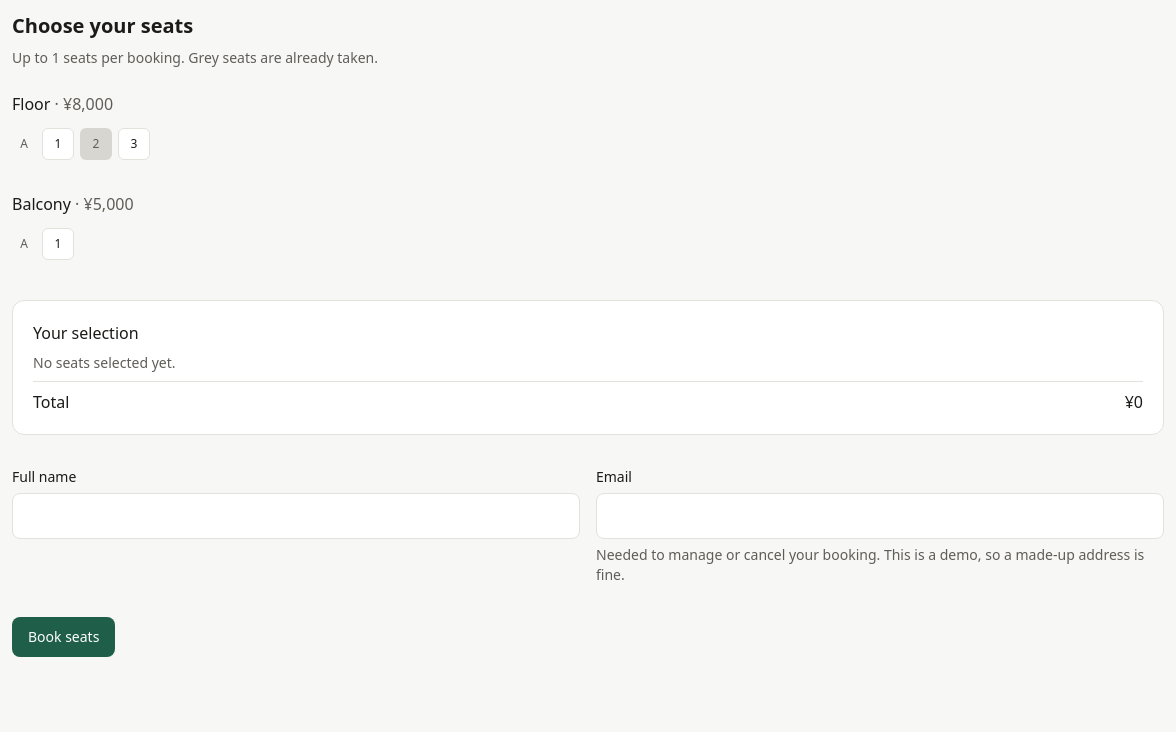
Test: BookingForm › disables the remaining seats once the limit is reached
Step 1. Click the checkbox named "Floor, row A, seat 1" → (58,144), box [42, 128, 74, 160]
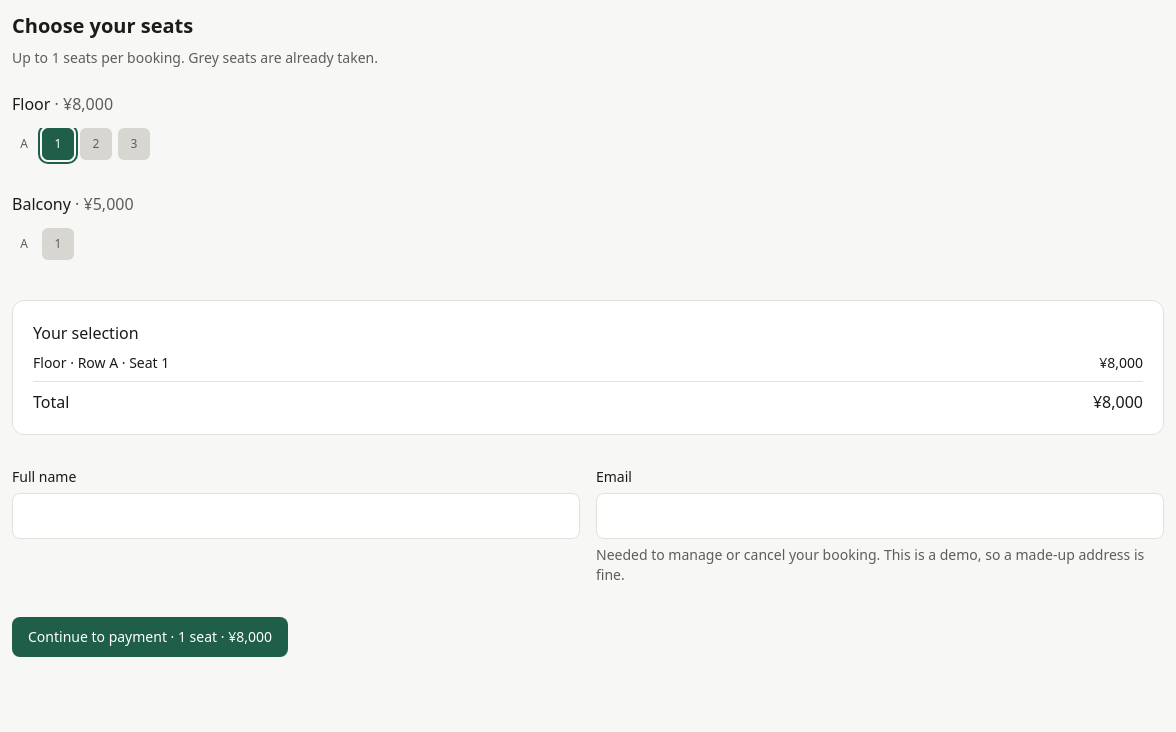
Expected: the checkbox named "Floor, row A, seat 3" is disabled, [118, 128, 150, 160]
